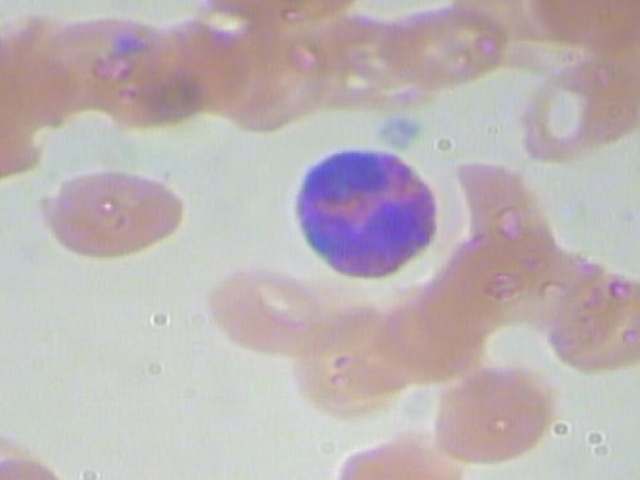RBC: (271, 301, 419, 423), (426, 153, 575, 274), (29, 167, 188, 270), (190, 253, 349, 356), (407, 361, 566, 464), (203, 16, 334, 135), (34, 10, 182, 114), (497, 61, 640, 163), (523, 267, 640, 370), (381, 0, 508, 93), (526, 0, 640, 48), (0, 416, 48, 480)
WBC: (286, 147, 444, 288)
